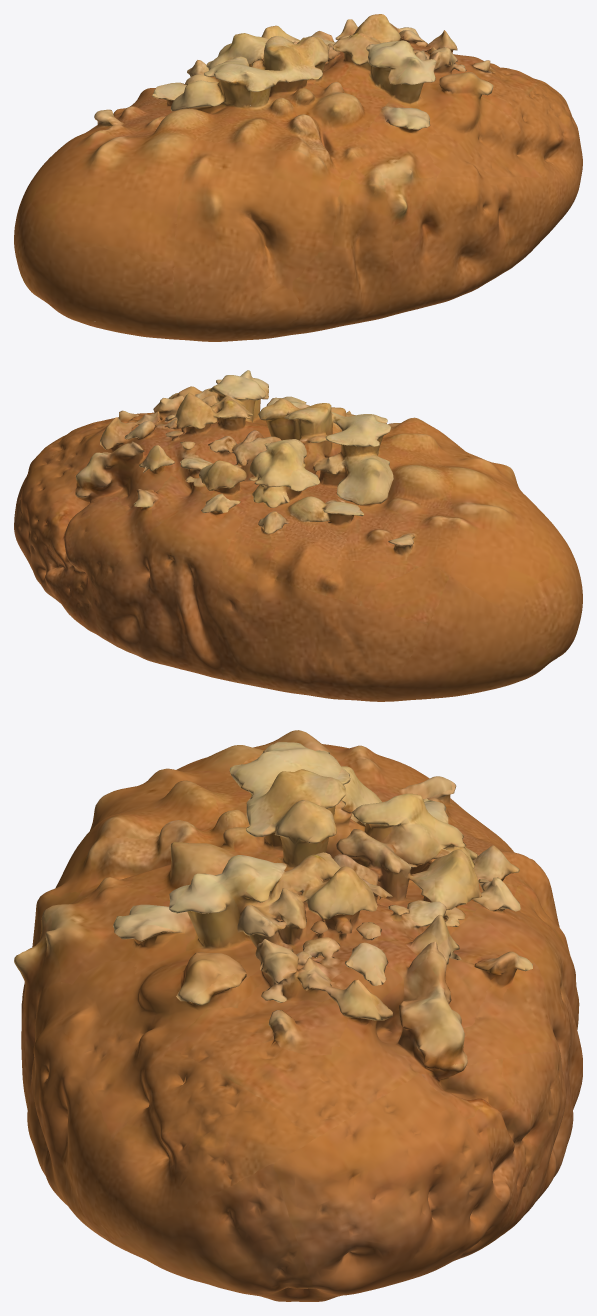
Rendered from melokis.glb.
The picture shows the model from 3 angles, top to bottom: view 1: azimuth 30°, elevation 25°; view 2: azimuth 150°, elevation 25°; view 3: azimuth 270°, elevation 25°; orthographic projection. The views are drawn at different scales.
Parts seen in each view (by area): view 1: tripo_node_5eed959c-da1e-4d49-9333-d76daa098c9d; view 2: tripo_node_5eed959c-da1e-4d49-9333-d76daa098c9d; view 3: tripo_node_5eed959c-da1e-4d49-9333-d76daa098c9d.
Boxes of the visible parts, x1,y1,x2,y2 form: tripo_node_5eed959c-da1e-4d49-9333-d76daa098c9d: [14, 14, 582, 341]; tripo_node_5eed959c-da1e-4d49-9333-d76daa098c9d: [14, 370, 582, 701]; tripo_node_5eed959c-da1e-4d49-9333-d76daa098c9d: [14, 730, 582, 1301].
Bounding box in the file's own units: 0.9804 × 0.3952 × 0.578.
Materials: 1 (1 with a texture image).
